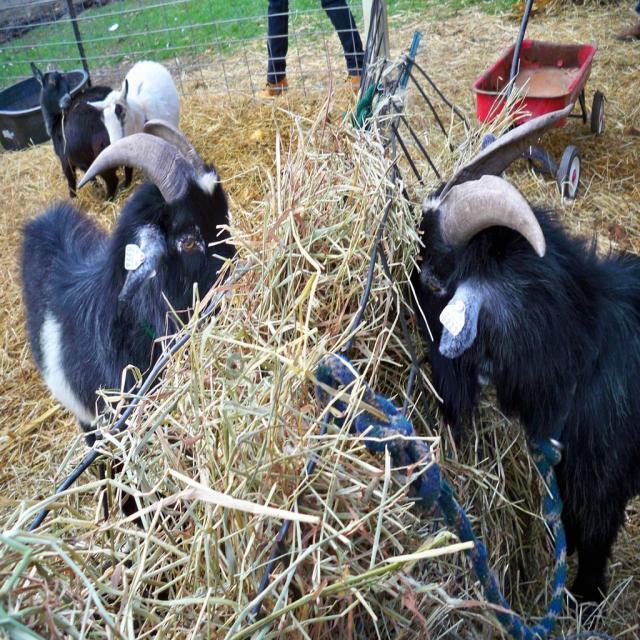Goat: (414, 171, 639, 622), (84, 59, 180, 192), (29, 61, 119, 202)
